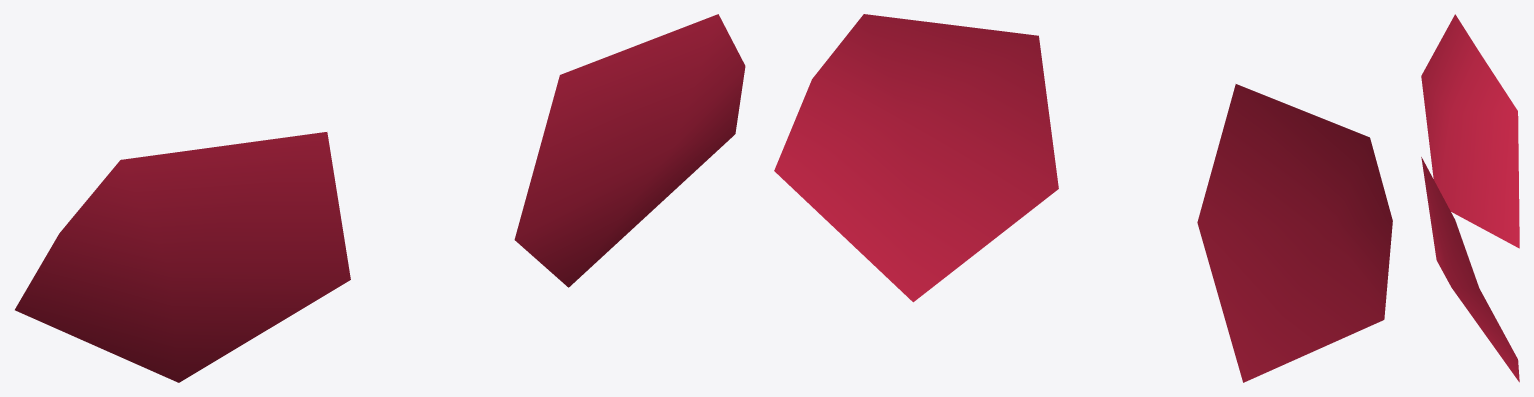
The picture shows the model from 3 angles, left to right: view 1: azimuth 30°, elevation 25°; view 2: azimuth 150°, elevation 25°; view 3: azimuth 270°, elevation 25°; orthographic projection. The views are drawn at different scales.
Visible parts, largest first — view 1: ef_813; view 2: ef_813; view 3: ef_813.
Boxes of the visible parts, x1,y1,x2,y2 form: ef_813: (15, 14, 745, 382); ef_813: (774, 14, 1392, 382); ef_813: (1421, 14, 1519, 382).
Bounding box in the file's own units: 0.6069 × 0.2278 × 0.1018.
Materials: 1 (1 with a texture image).
